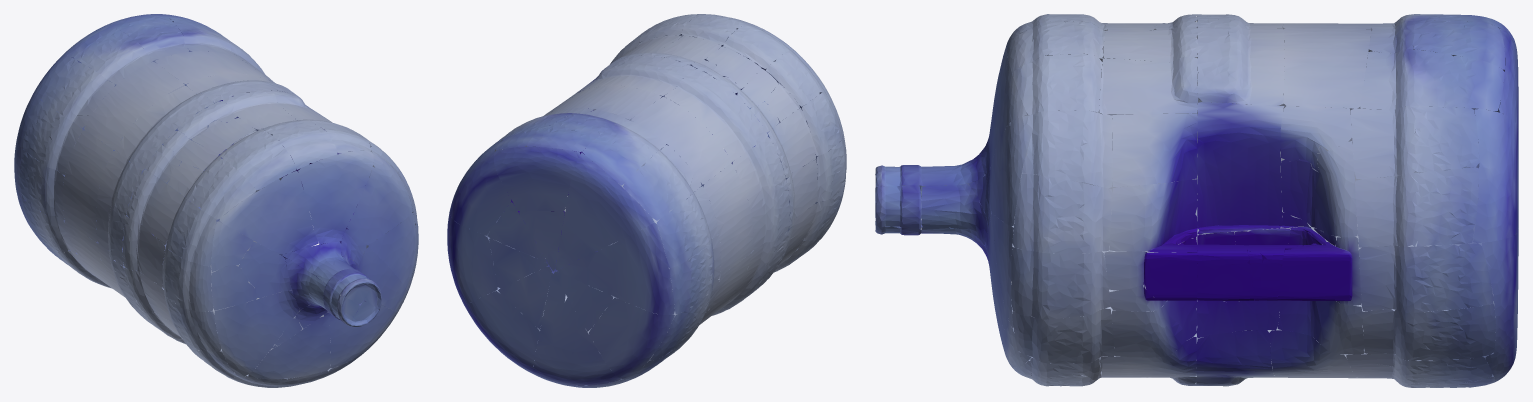
The model's file is jug_meshy_20k.obj.
3 renders of one model, left to right at view 1: azimuth 30°, elevation 25°; view 2: azimuth 150°, elevation 25°; view 3: azimuth 270°, elevation 25°, orthographic. The views are drawn at different scales.
Size of the model in its own units: 0.2815 by 0.2813 by 0.4829.
